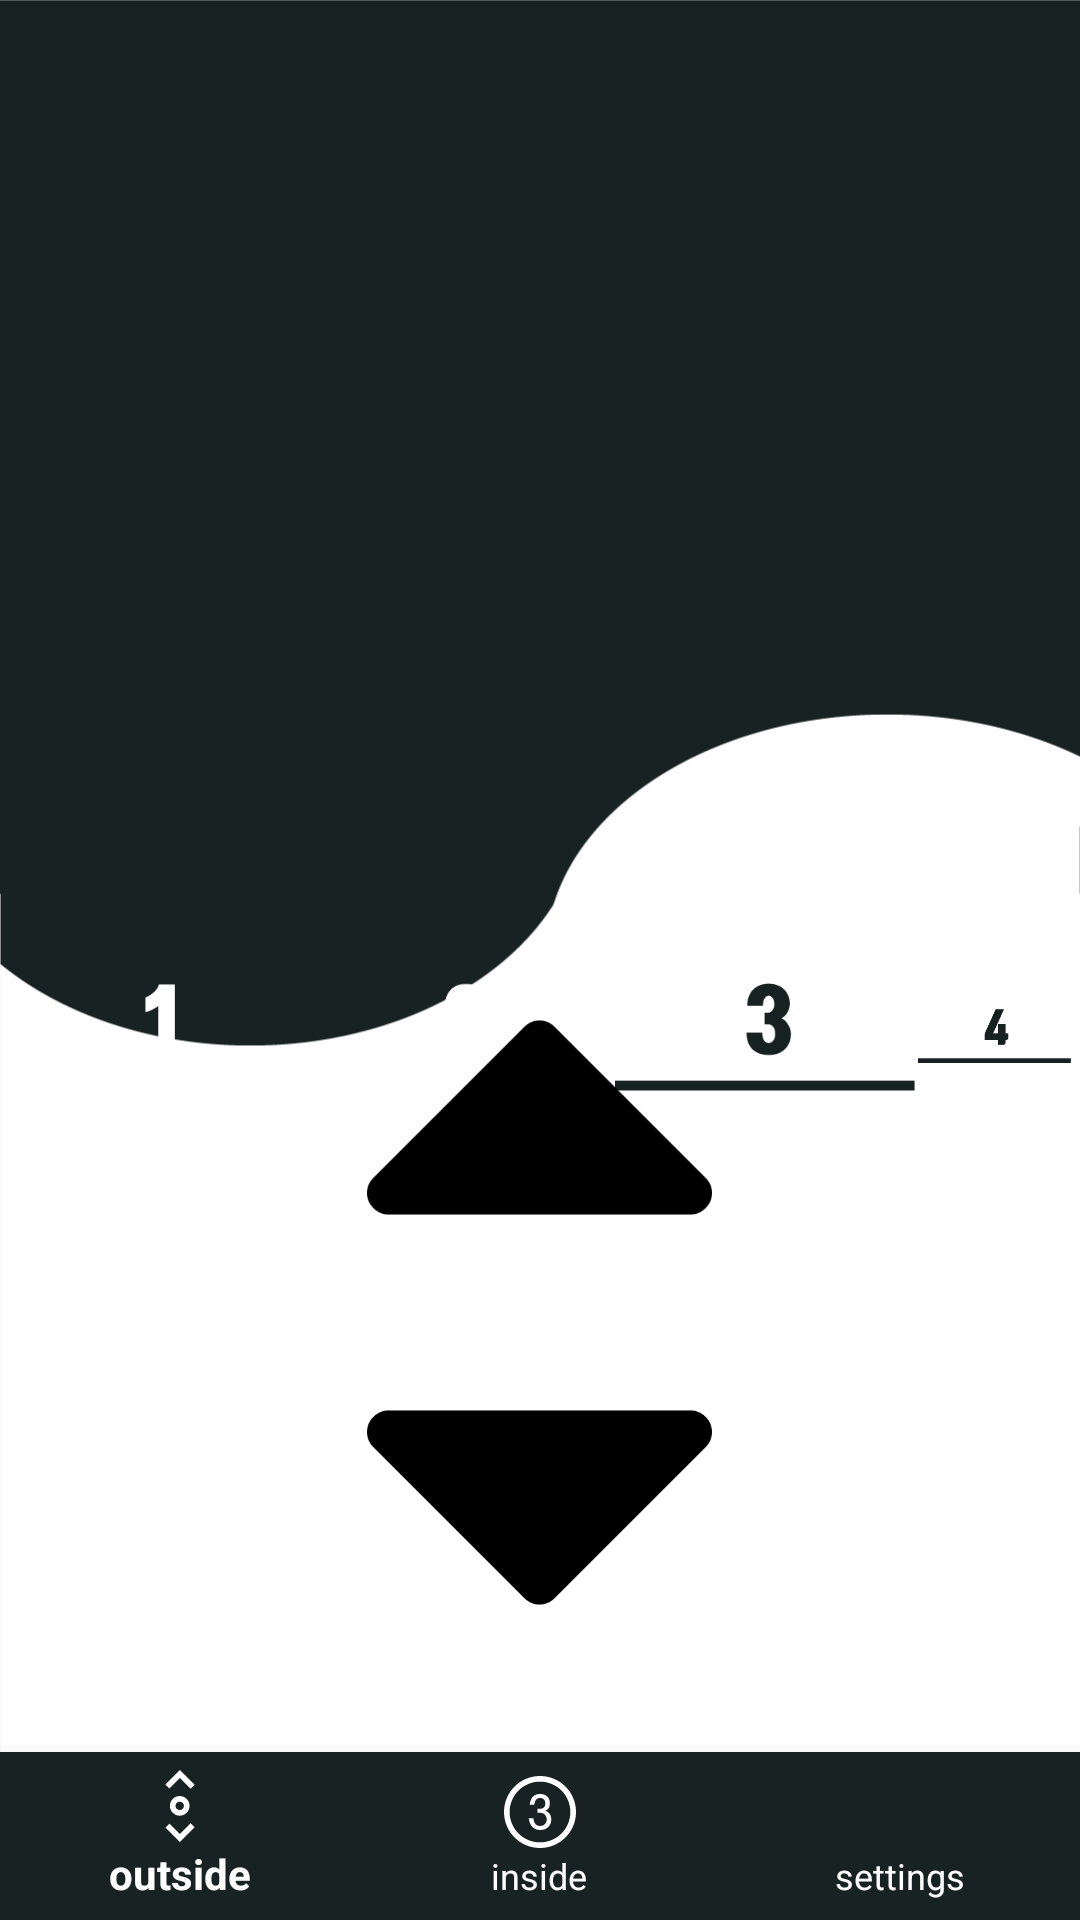

Screen size 1080*1920. Icon name, then its center in pixels as point (x, y):
sort down: point (539, 1507)
